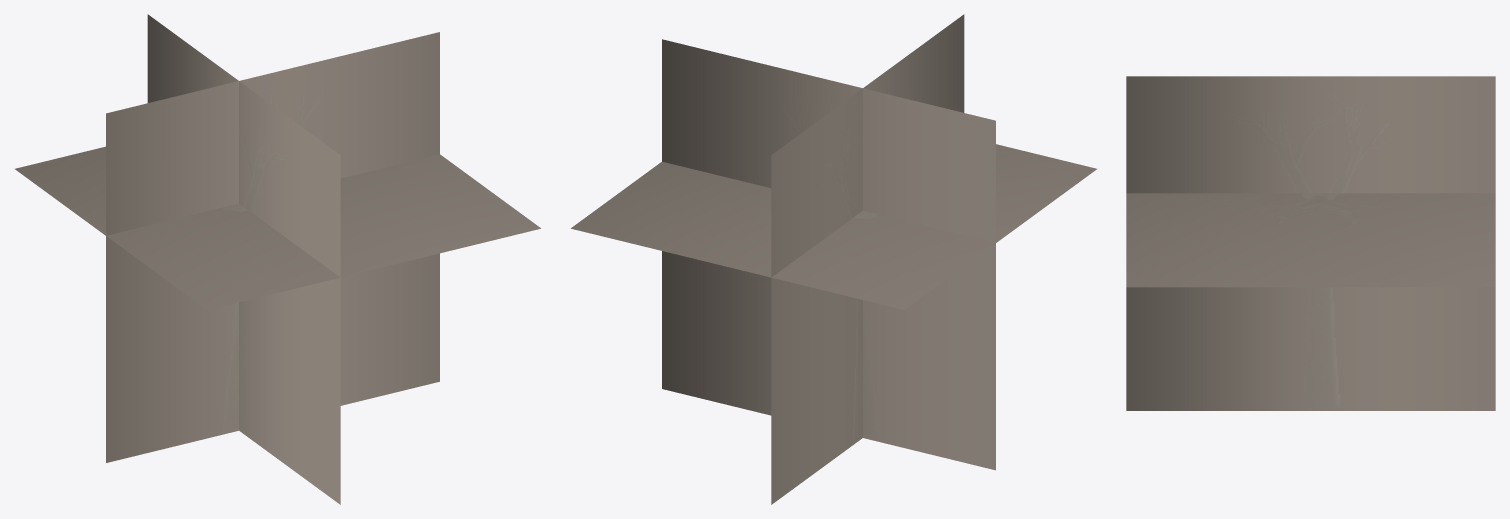
Rendered from dead_tree_1_far.glb.
3 renders of one model, left to right at view 1: azimuth 30°, elevation 25°; view 2: azimuth 150°, elevation 25°; view 3: azimuth 270°, elevation 25°, orthographic. The views are drawn at different scales.
Parts seen in each view (by area): view 1: dead_tree_1_far; view 2: dead_tree_1_far; view 3: dead_tree_1_far.
Part boxes in pixels (box(x1,y1,x2,y2)): dead_tree_1_far: box(15, 14, 540, 504); dead_tree_1_far: box(571, 14, 1096, 504); dead_tree_1_far: box(1126, 76, 1495, 410).
Bounding box in the file's own units: 6.8 × 6.8 × 6.8.
1 material, 1 textured.
